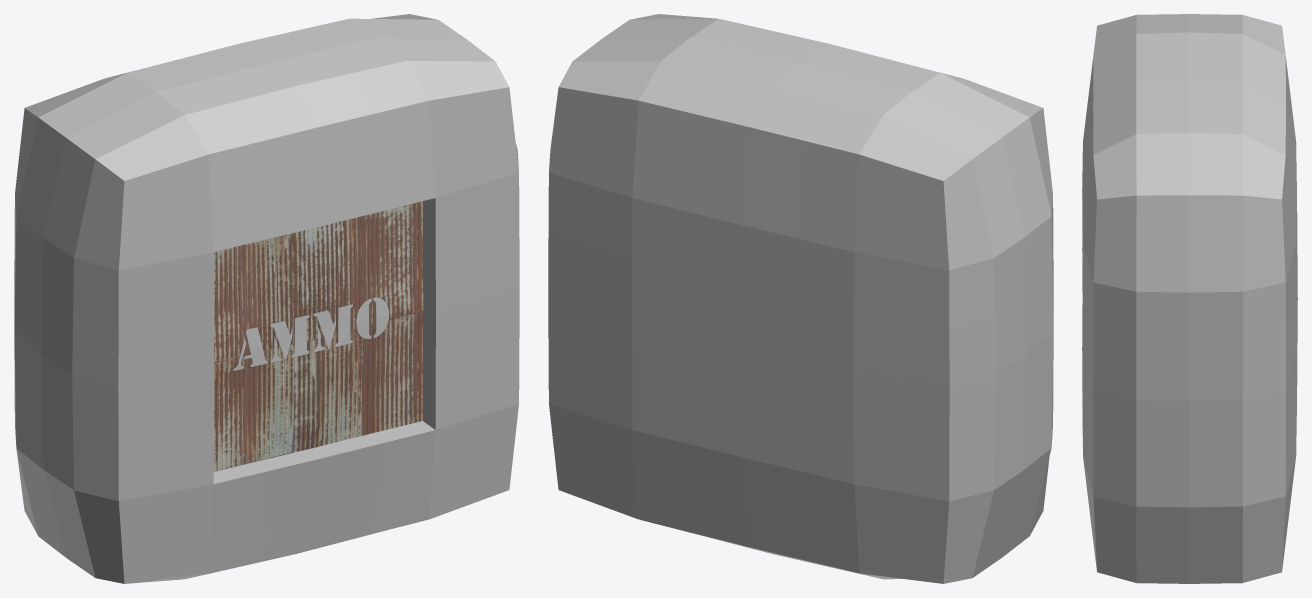
Rendered from ammo.fbx.
The picture shows the model from 3 angles, left to right: view 1: azimuth 30°, elevation 25°; view 2: azimuth 150°, elevation 25°; view 3: azimuth 270°, elevation 25°; orthographic projection. The views are drawn at different scales.
Visible parts, largest first — view 1: Cube; view 2: Cube; view 3: Cube.
Part boxes in pixels (<box>): Cube: <box>14,14,519,583</box>; Cube: <box>548,14,1053,583</box>; Cube: <box>1082,14,1297,583</box>.
Bounding box in the file's own units: 3.9 × 3.9 × 1.74.
